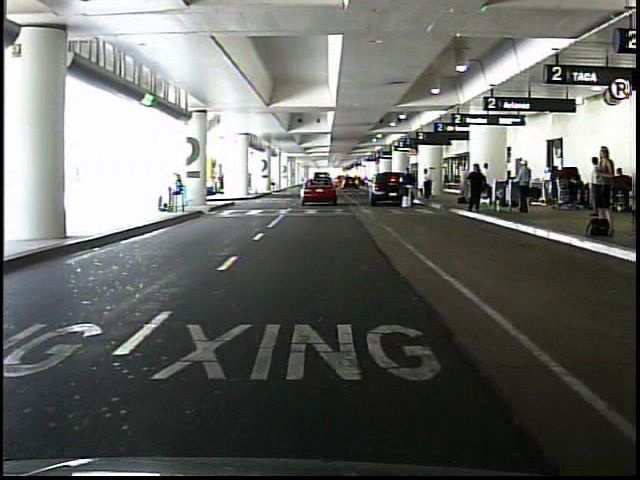person: (591, 146, 616, 220), (466, 161, 484, 212), (589, 158, 604, 217), (517, 160, 533, 215), (169, 172, 188, 217), (403, 169, 415, 213), (479, 162, 490, 203), (423, 168, 434, 202)
